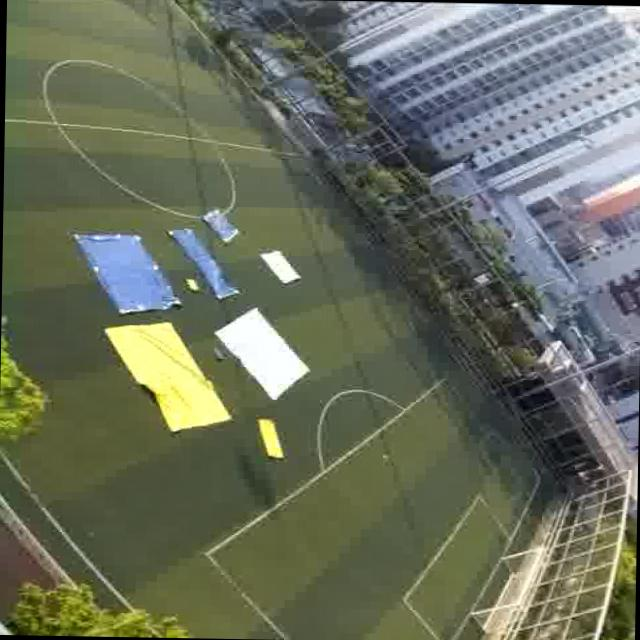danger: (75, 234, 166, 310), (200, 256, 239, 300), (202, 206, 248, 242)
safety: (223, 314, 310, 392), (253, 246, 302, 288)
warning: (100, 324, 216, 426), (251, 417, 289, 458)
